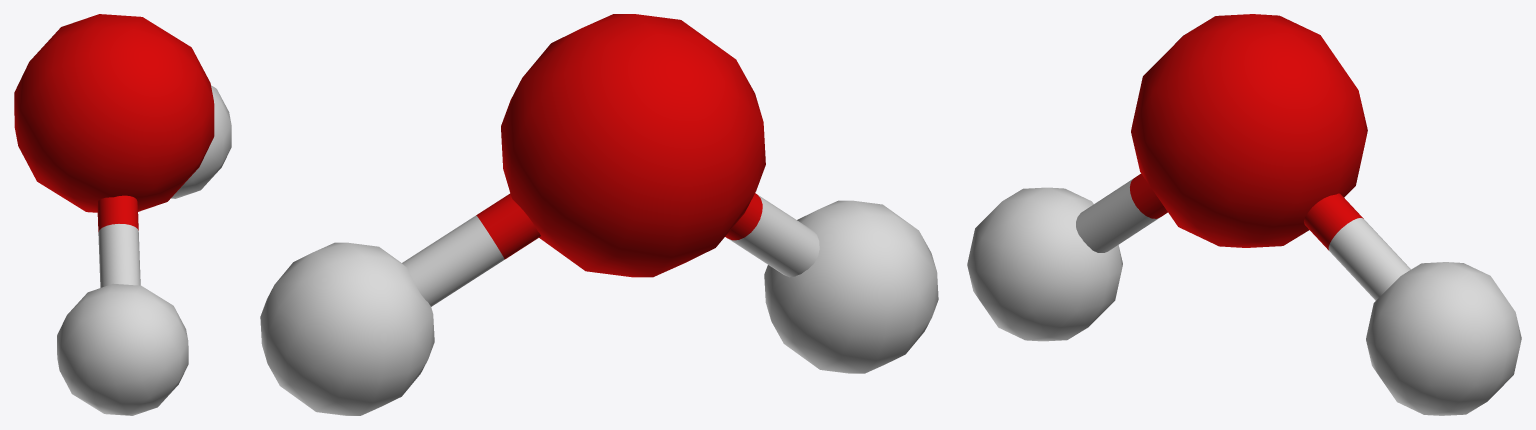
The picture shows the model from 3 angles, left to right: view 1: azimuth 30°, elevation 25°; view 2: azimuth 150°, elevation 25°; view 3: azimuth 270°, elevation 25°; orthographic projection. The views are drawn at different scales.
Visible parts, largest first — view 1: vmd_mol0_rep0; view 2: vmd_mol0_rep0; view 3: vmd_mol0_rep0.
Part boxes in pixels (box(x1,y1,x2,y2)): vmd_mol0_rep0: box(14, 14, 231, 415); vmd_mol0_rep0: box(260, 14, 938, 415); vmd_mol0_rep0: box(967, 14, 1521, 415).
Bounding box in the file's own units: 1.01 × 0.8919 × 1.27.
